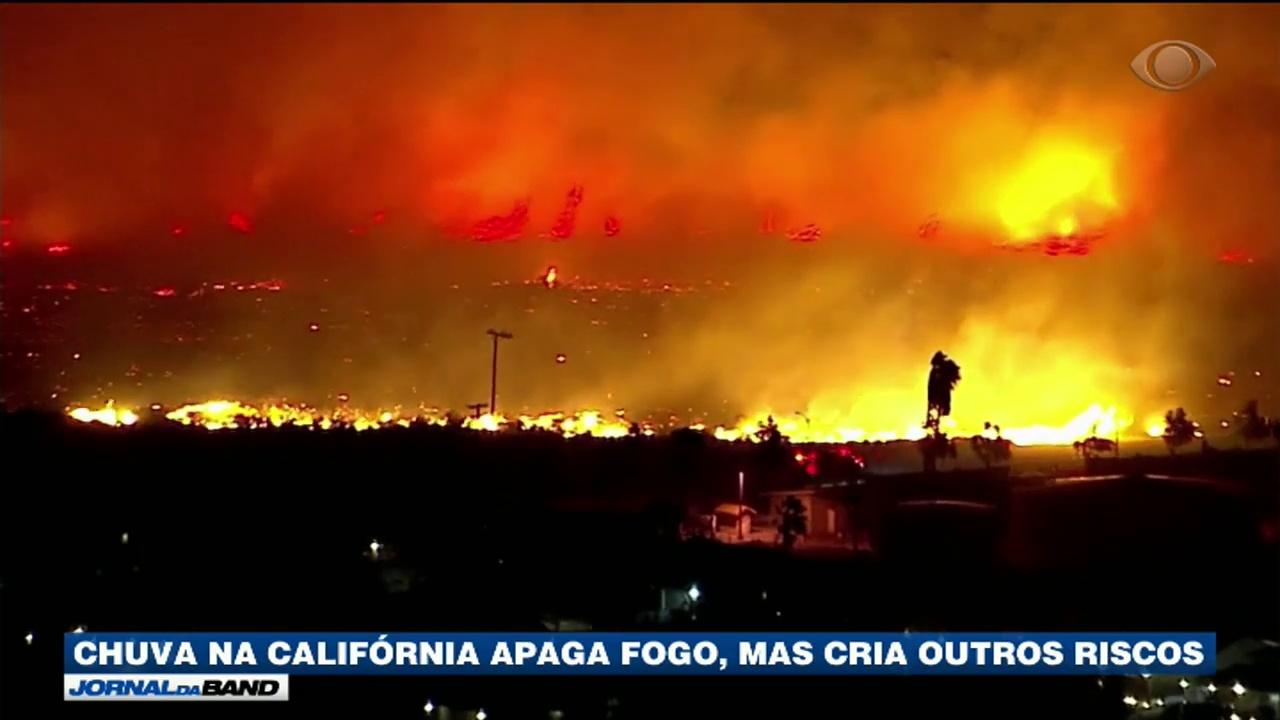Fire: (66, 402, 645, 442), (716, 408, 1188, 447), (1006, 136, 1131, 252), (544, 267, 558, 288)
